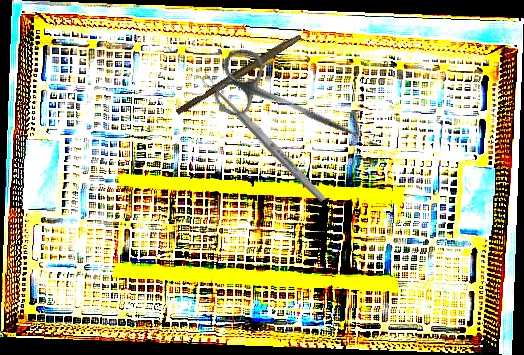Iris Scissors: (205, 42, 375, 166)
Scalpel Handle: (174, 30, 303, 118)
Surgical Spoon: (199, 72, 328, 204)
